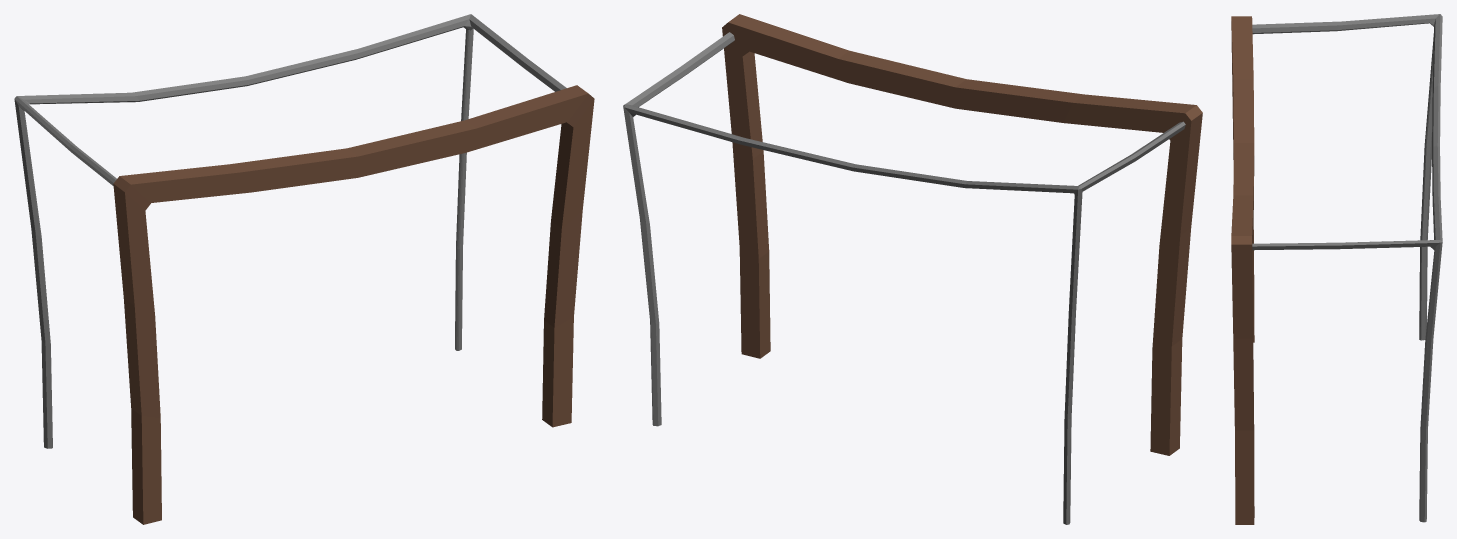
Rendered from SM_Goal.fbx.
The picture shows the model from 3 angles, left to right: view 1: azimuth 30°, elevation 25°; view 2: azimuth 150°, elevation 25°; view 3: azimuth 270°, elevation 25°; orthographic projection. The views are drawn at different scales.
Visible parts, largest first — view 1: Soccer_Goal; view 2: Soccer_Goal; view 3: Soccer_Goal.
Part boxes in pixels (x1,y1,x2,y2): Soccer_Goal: (14, 14, 594, 524); Soccer_Goal: (623, 14, 1202, 524); Soccer_Goal: (1231, 14, 1442, 524).
Size of the model in its own units: 422 by 301 by 182.
